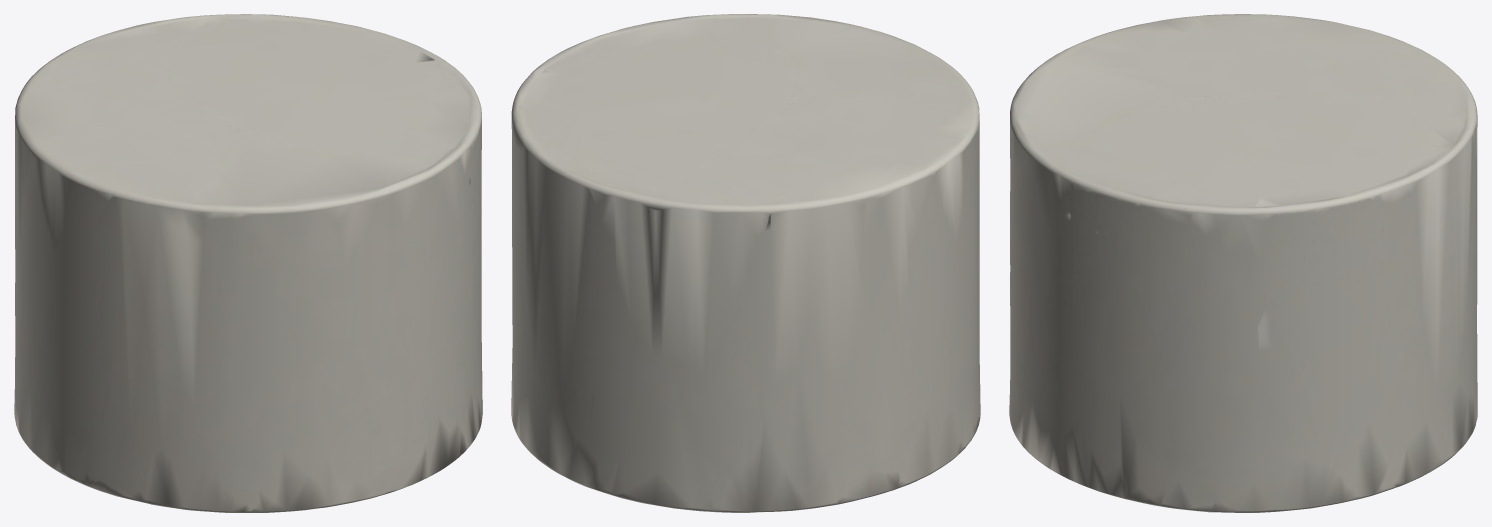
File: bk-struct-tier-round.glb
3 views of the same model, side by side, from view 1: azimuth 30°, elevation 25°; view 2: azimuth 150°, elevation 25°; view 3: azimuth 270°, elevation 25° (orthographic).
Parts seen in each view (by area): view 1: node_0; view 2: node_0; view 3: node_0.
Boxes of the visible parts, x1,y1,x2,y2 form: node_0: (14, 14, 482, 512); node_0: (511, 14, 980, 512); node_0: (1009, 14, 1477, 512).
Size of the model in its own units: 0.979 by 0.7047 by 0.9786.
1 material, 1 textured.
